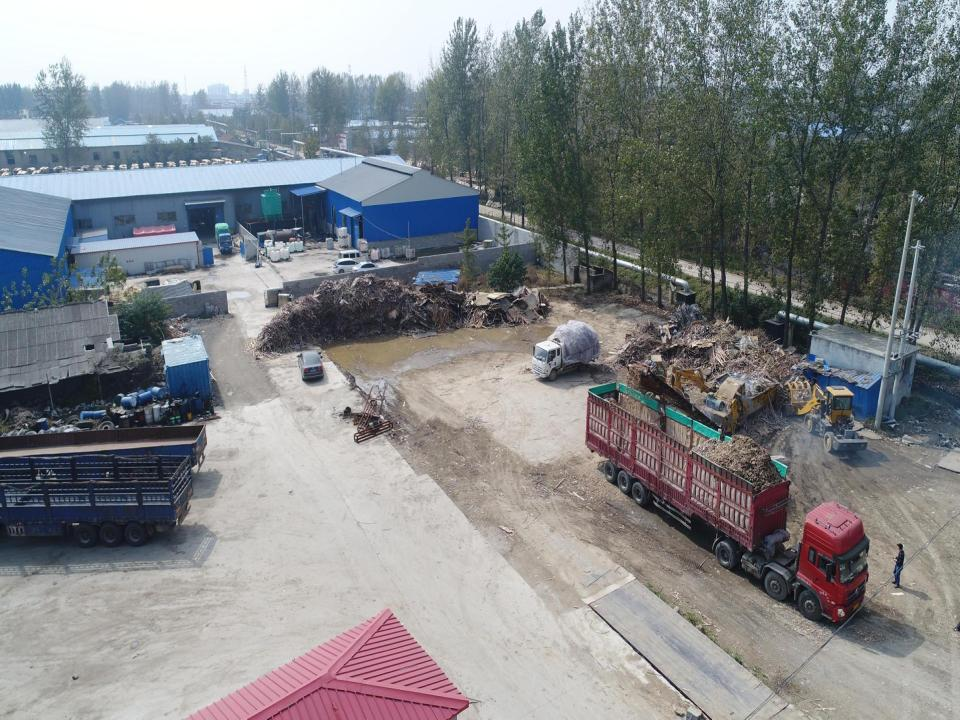car: (297, 350, 324, 381), (333, 258, 363, 274), (352, 262, 379, 277)
truck: (586, 382, 869, 624), (0, 454, 193, 547), (0, 424, 207, 484), (798, 384, 867, 456), (531, 320, 600, 382), (214, 222, 232, 254)
van: (338, 249, 366, 267)
